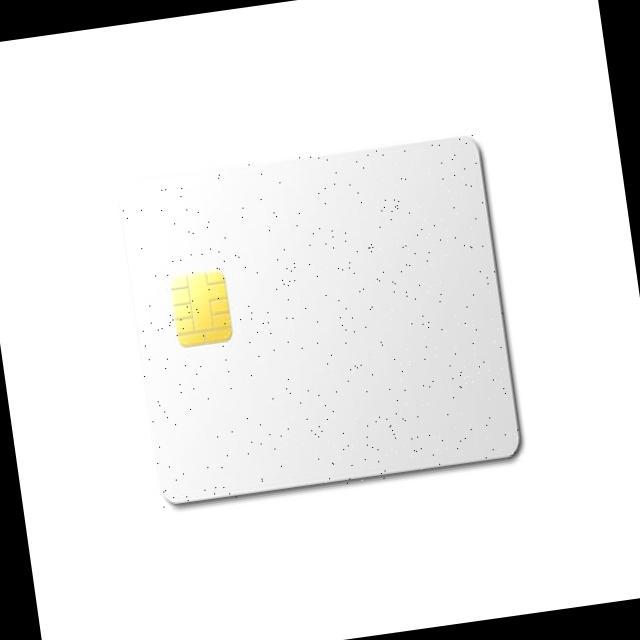payment_card: (119, 133, 523, 505)
